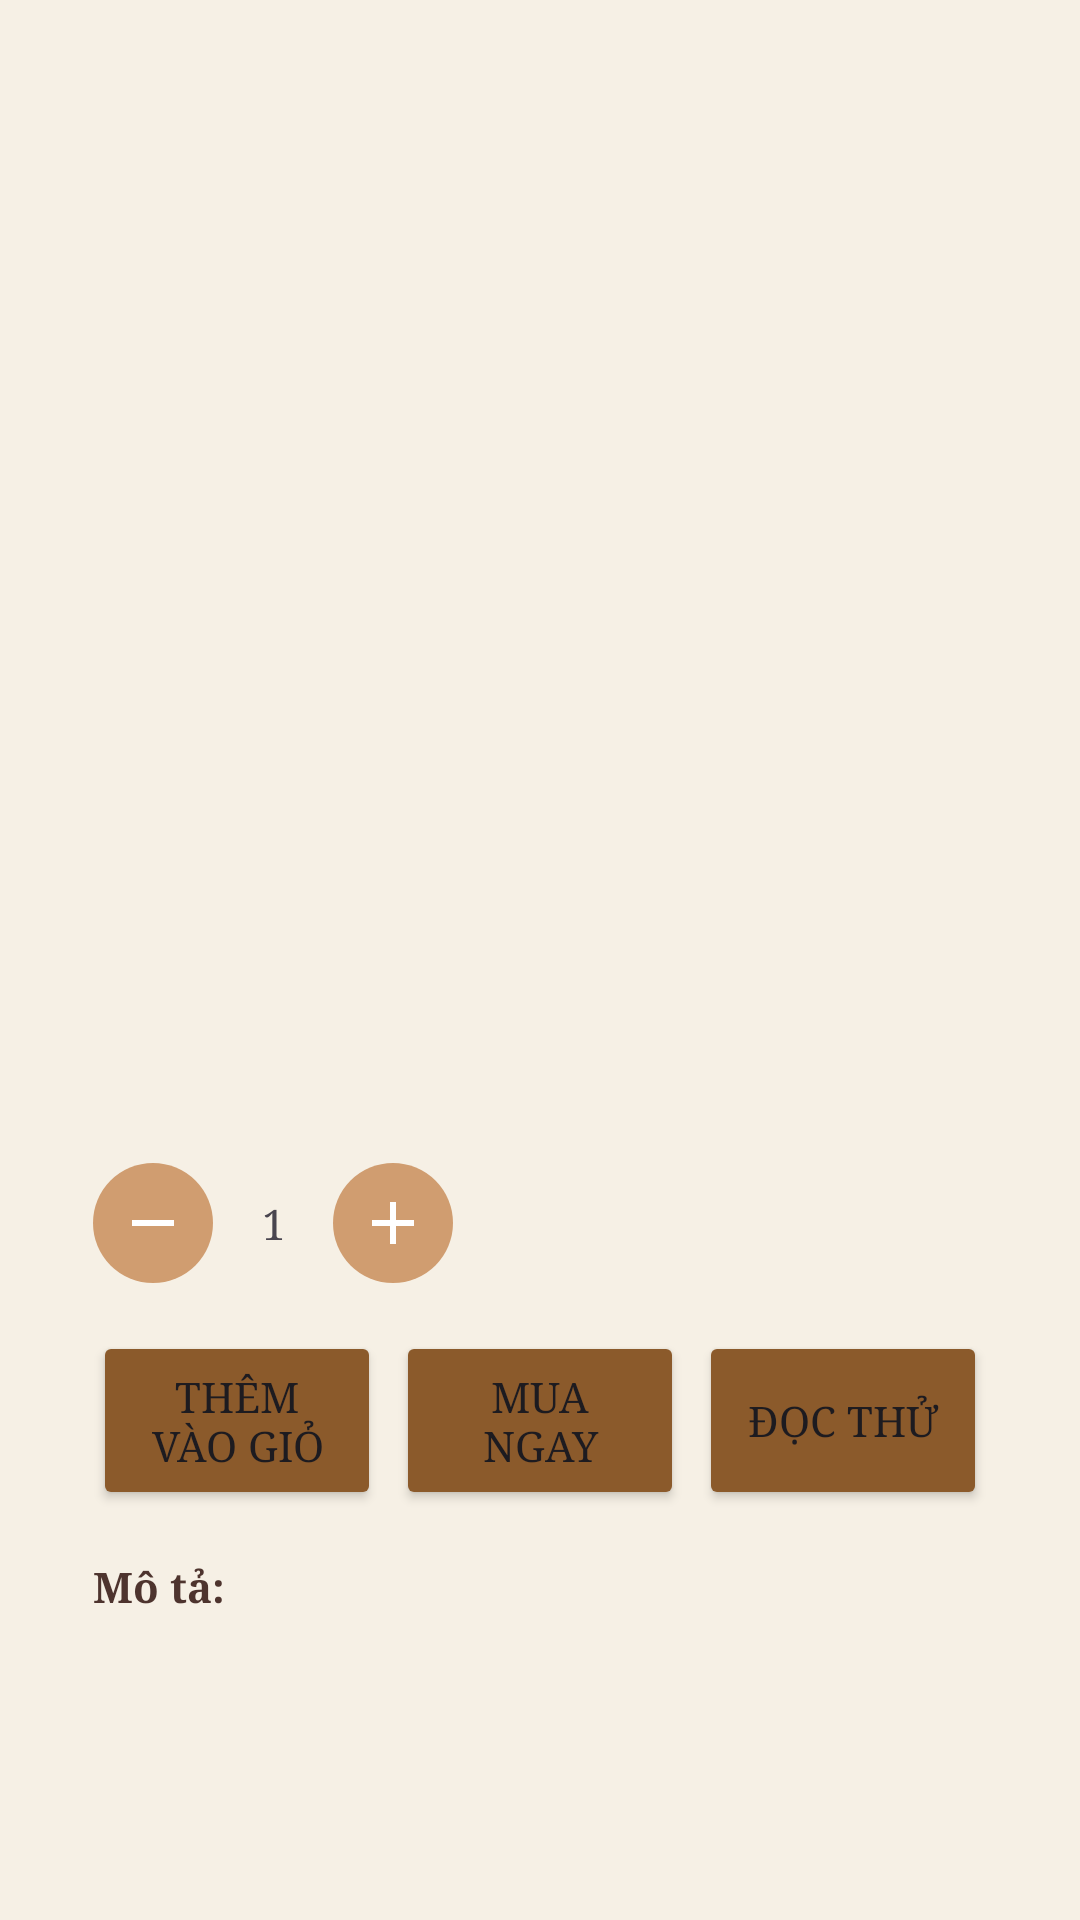

Point at icon controls on the screen. Image size 1080x1920, points as point (x, y).
minus: point (153, 1223)
plus: point (393, 1223)
